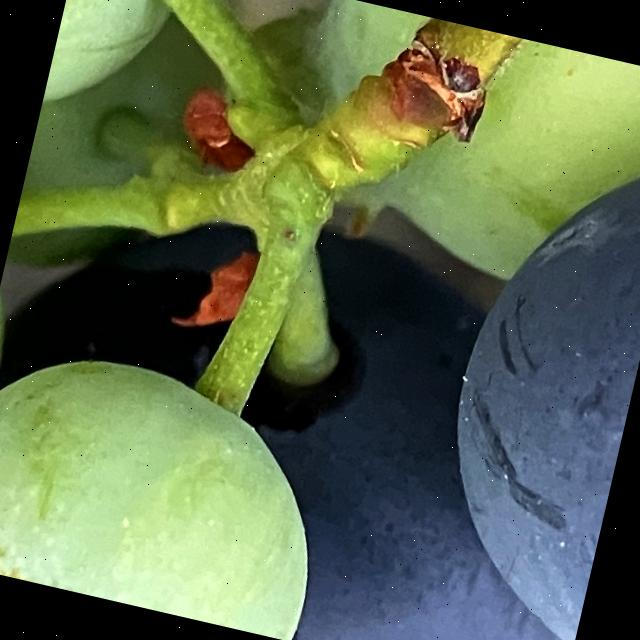Blueberries: (0, 324, 365, 640)
